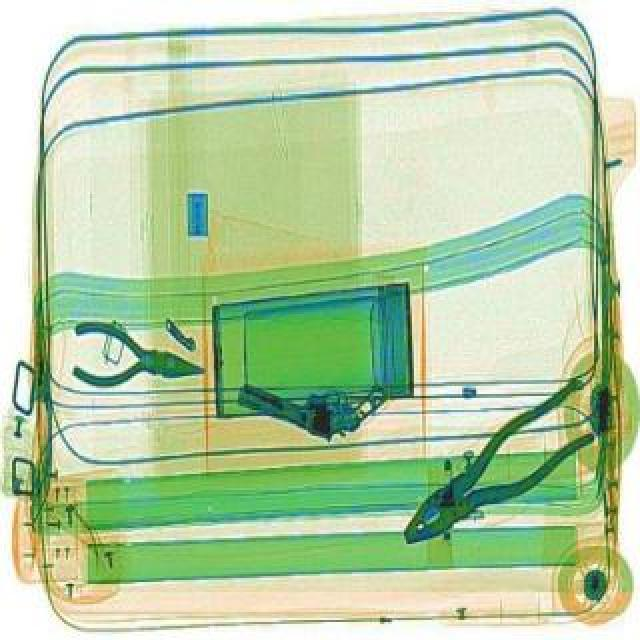gun: (234, 344, 390, 452)
wrench: (376, 372, 616, 560), (66, 314, 210, 396)
